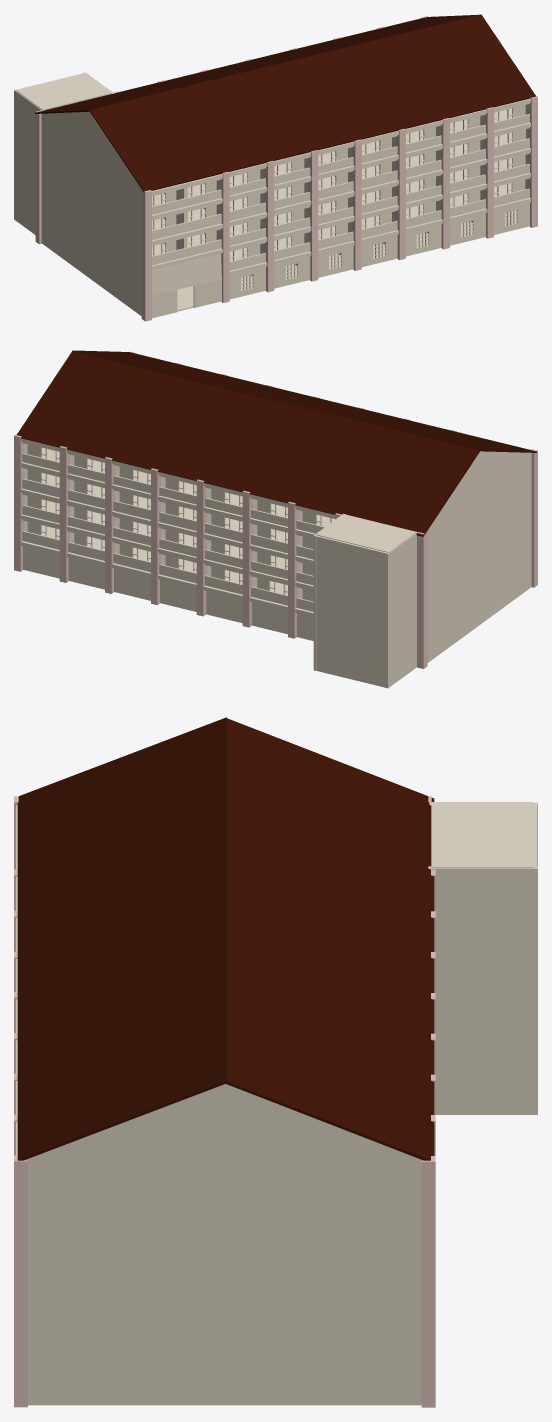
File: house10.fbx
3 views of the same model, one above another, from view 1: azimuth 30°, elevation 25°; view 2: azimuth 150°, elevation 25°; view 3: azimuth 270°, elevation 25° (orthographic). The views are drawn at different scales.
Parts seen in each view (by area): view 1: 立方体.067; view 2: 立方体.067; view 3: 立方体.067.
Boxes of the visible parts, bbox=[...] form: 立方体.067: bbox=[14, 14, 537, 321]; 立方体.067: bbox=[14, 350, 537, 688]; 立方体.067: bbox=[14, 717, 537, 1407].
Bounding box in the file's own units: 65499 × 27451 × 39787.
